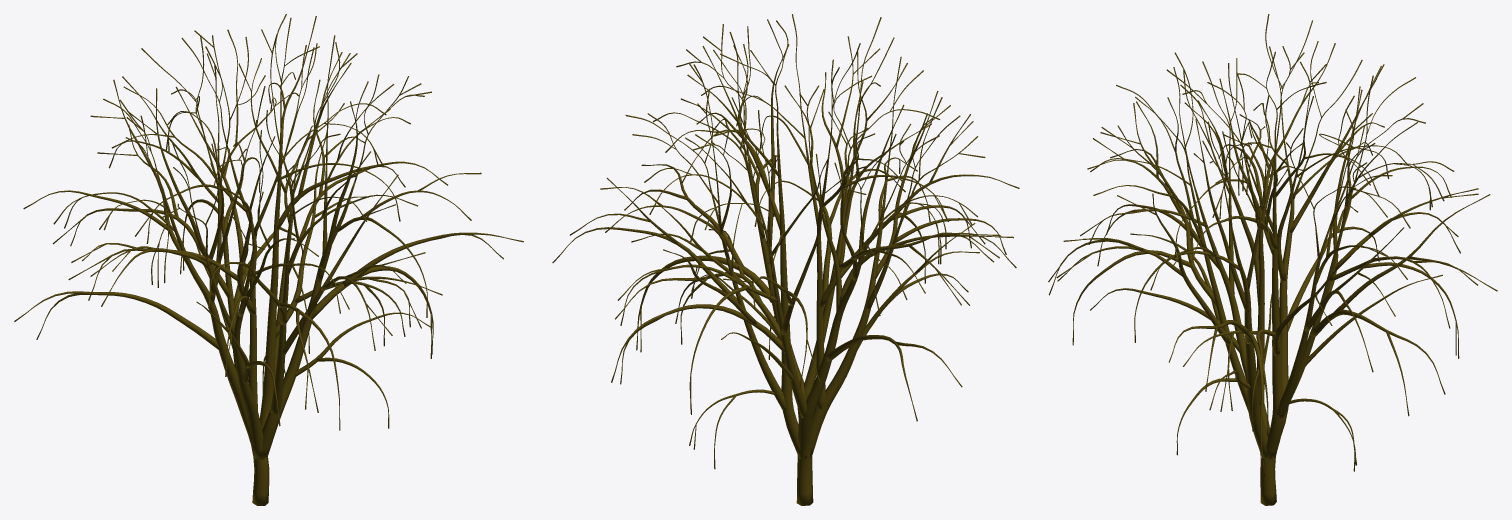
The model's file is deadTree.fbx.
3 views of the same model, side by side, from view 1: azimuth 30°, elevation 25°; view 2: azimuth 150°, elevation 25°; view 3: azimuth 270°, elevation 25° (orthographic). The views are drawn at different scales.
Visible parts, largest first — view 1: tree; view 2: tree; view 3: tree.
Part boxes in pixels (x1,y1,x2,y2): tree: [14, 14, 523, 505]; tree: [552, 14, 1019, 505]; tree: [1048, 14, 1497, 505].
Size of the model in its own units: 585 by 641 by 559.
